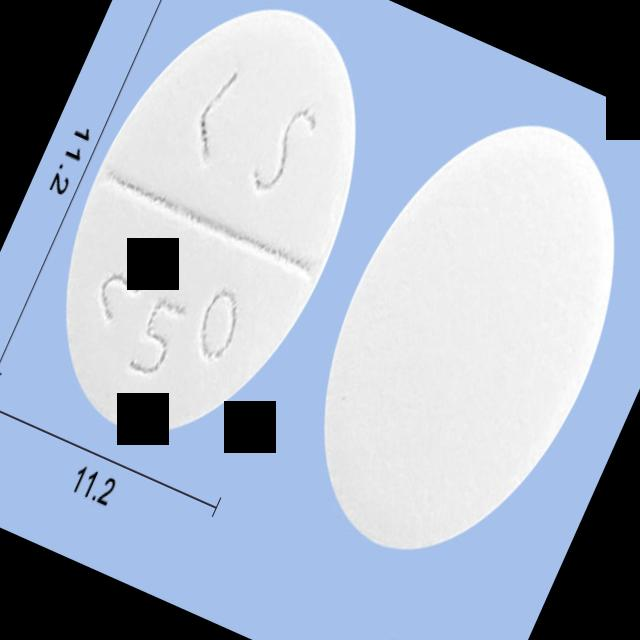Cifroxa: (0, 0, 420, 485)
